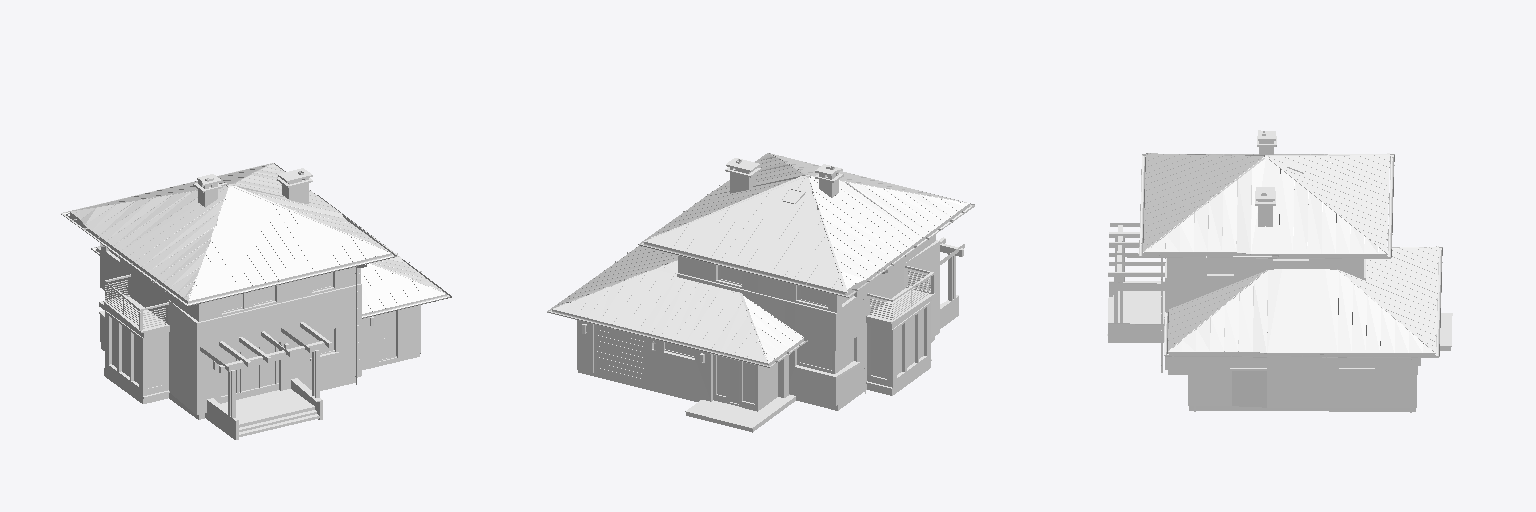
The model's file is Thing_6.obj.
3 views of the same model, side by side, from view 1: azimuth 30°, elevation 25°; view 2: azimuth 150°, elevation 25°; view 3: azimuth 270°, elevation 25° (orthographic).
Parts seen in each view (by area): view 1: Mesh184_skpg2dM4L_2_1_Model.1; view 2: Mesh184_skpg2dM4L_2_1_Model.1; view 3: Mesh184_skpg2dM4L_2_1_Model.1.
Part boxes in pixels (bbox=[...]): Mesh184_skpg2dM4L_2_1_Model.1: bbox=[61, 163, 451, 439]; Mesh184_skpg2dM4L_2_1_Model.1: bbox=[547, 153, 974, 432]; Mesh184_skpg2dM4L_2_1_Model.1: bbox=[1107, 130, 1452, 412].
Bounding box in the file's own units: 8.8 × 5.75 × 9.31.